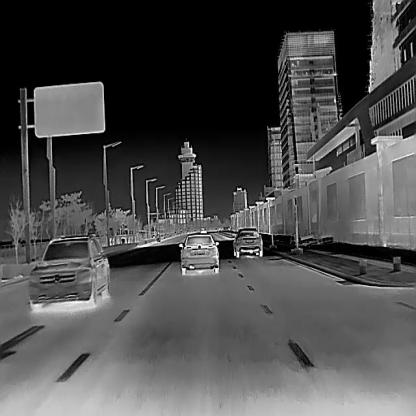car: (28, 235, 110, 302), (178, 233, 218, 274), (233, 226, 262, 257), (199, 226, 206, 233)
